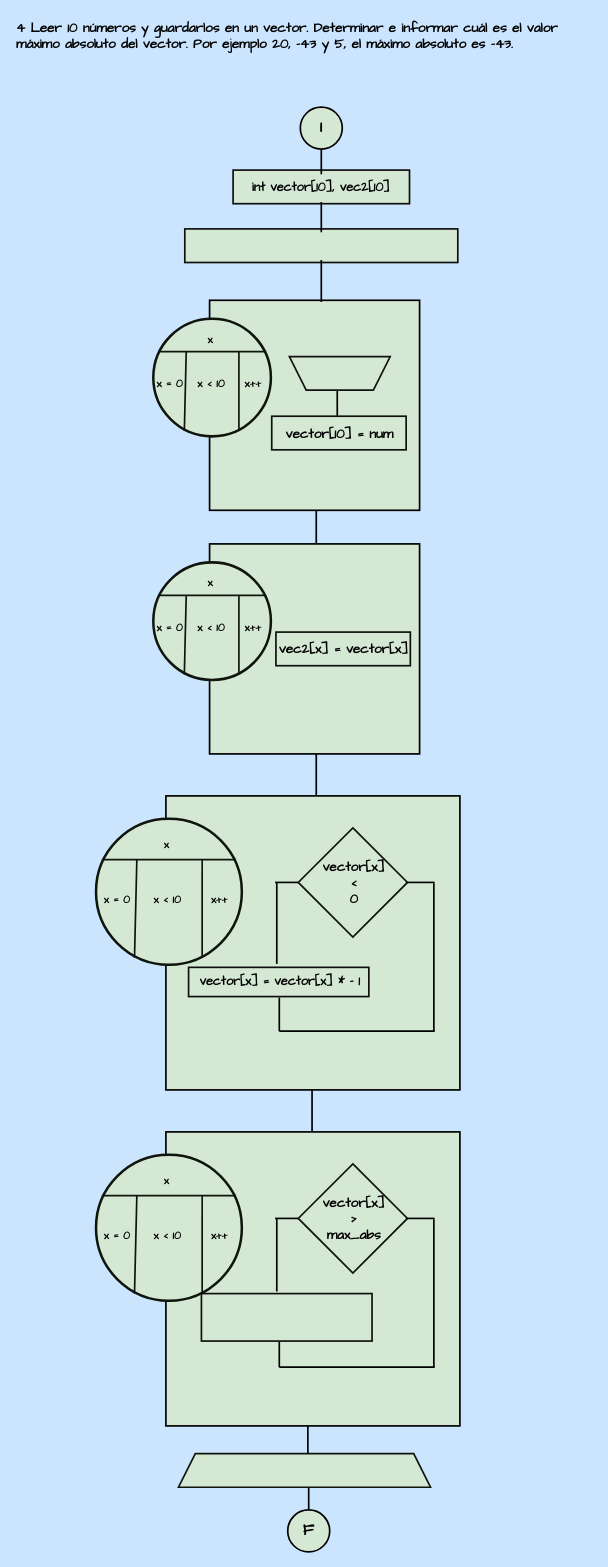
The diagram is 608 pixels wide and 1567 high, and some of its shapes have lost their labels. Here are the shapes that lost their labels. From the top down, the centre of each, then its label:
point (321, 245): int num, x = 0, max_abs = 0 int maximo_absoluto = 0
point (339, 373): num
point (286, 1316): max_abc = vector[x ] maximo_absoluto = vec2[x]
point (304, 1470): "Máximo Absoluto: ", maximo_absoluto
